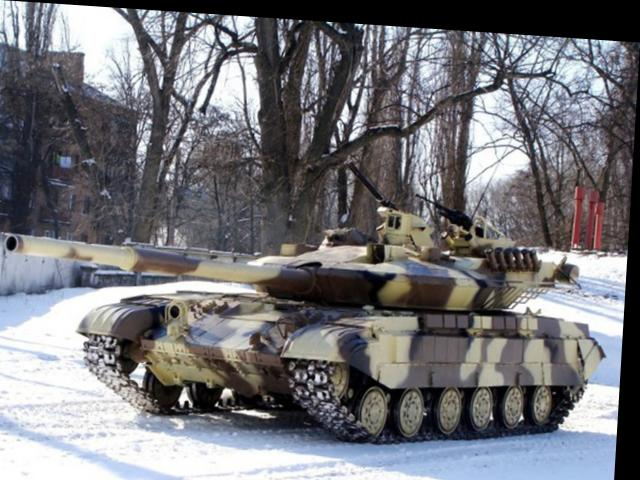tank: (82, 184, 611, 430)
